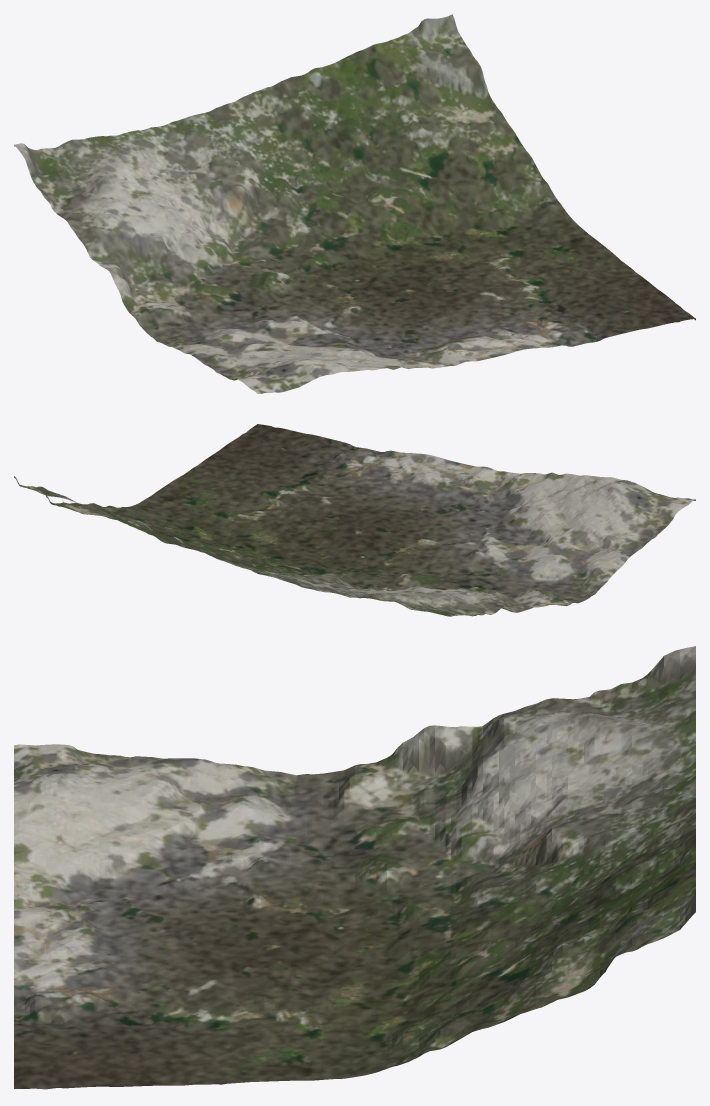
3 views of the same model, one above another, from view 1: azimuth 30°, elevation 25°; view 2: azimuth 150°, elevation 25°; view 3: azimuth 270°, elevation 25° (orthographic). The views are drawn at different scales.
Bounding box in the file's own units: 250 × 70.89 × 241.
1 material, 1 textured.
